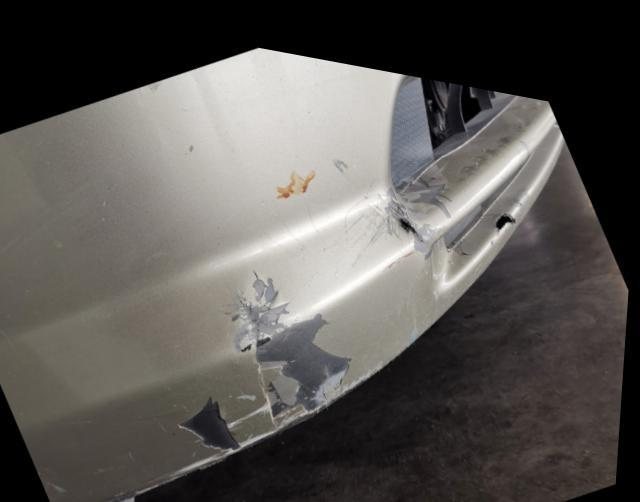crack: (496, 193, 519, 213)
scratch: (144, 261, 378, 488), (340, 152, 449, 235)
